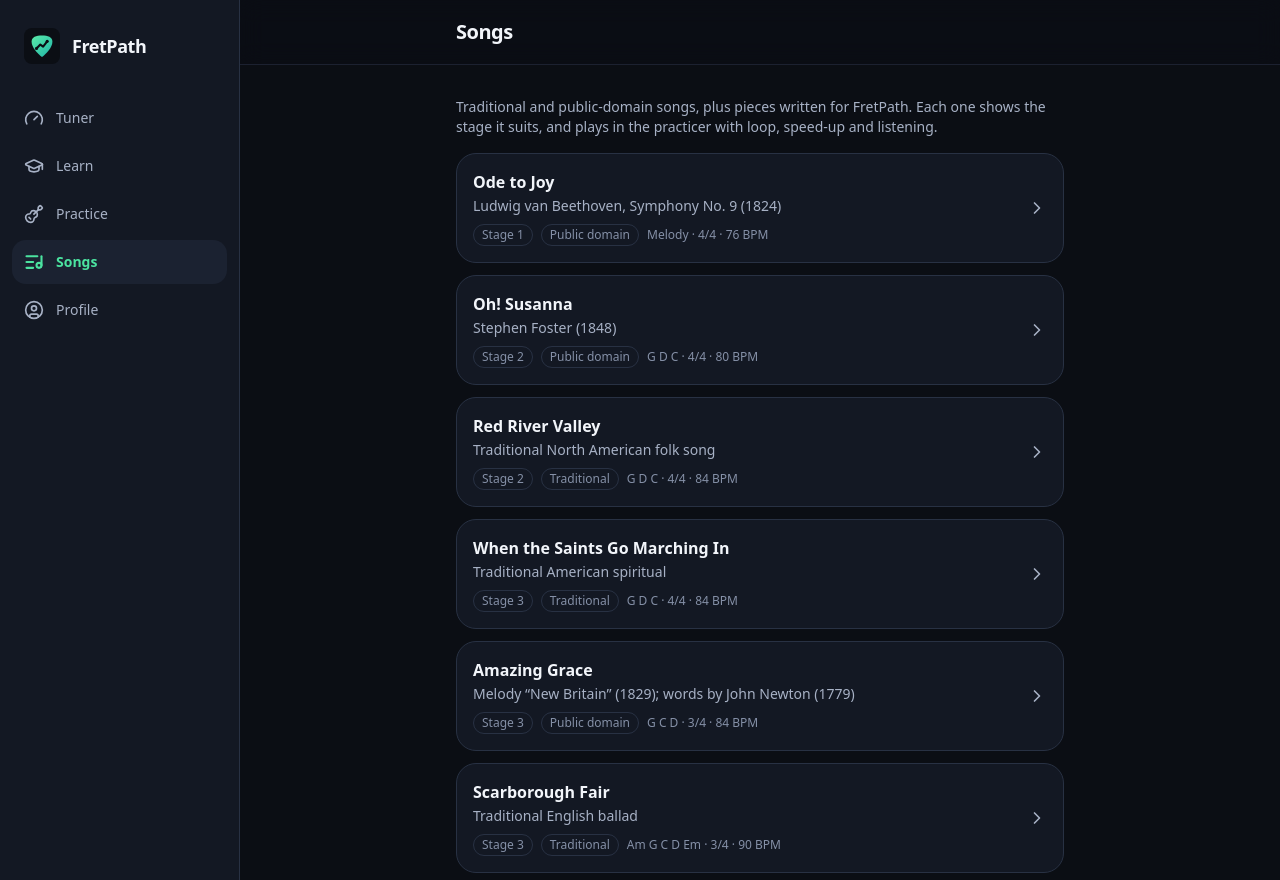
Test: Songs screens › lists the songs with their origin
Click the link "Ode to Joy" at (760, 208), box [456, 153, 1064, 263]
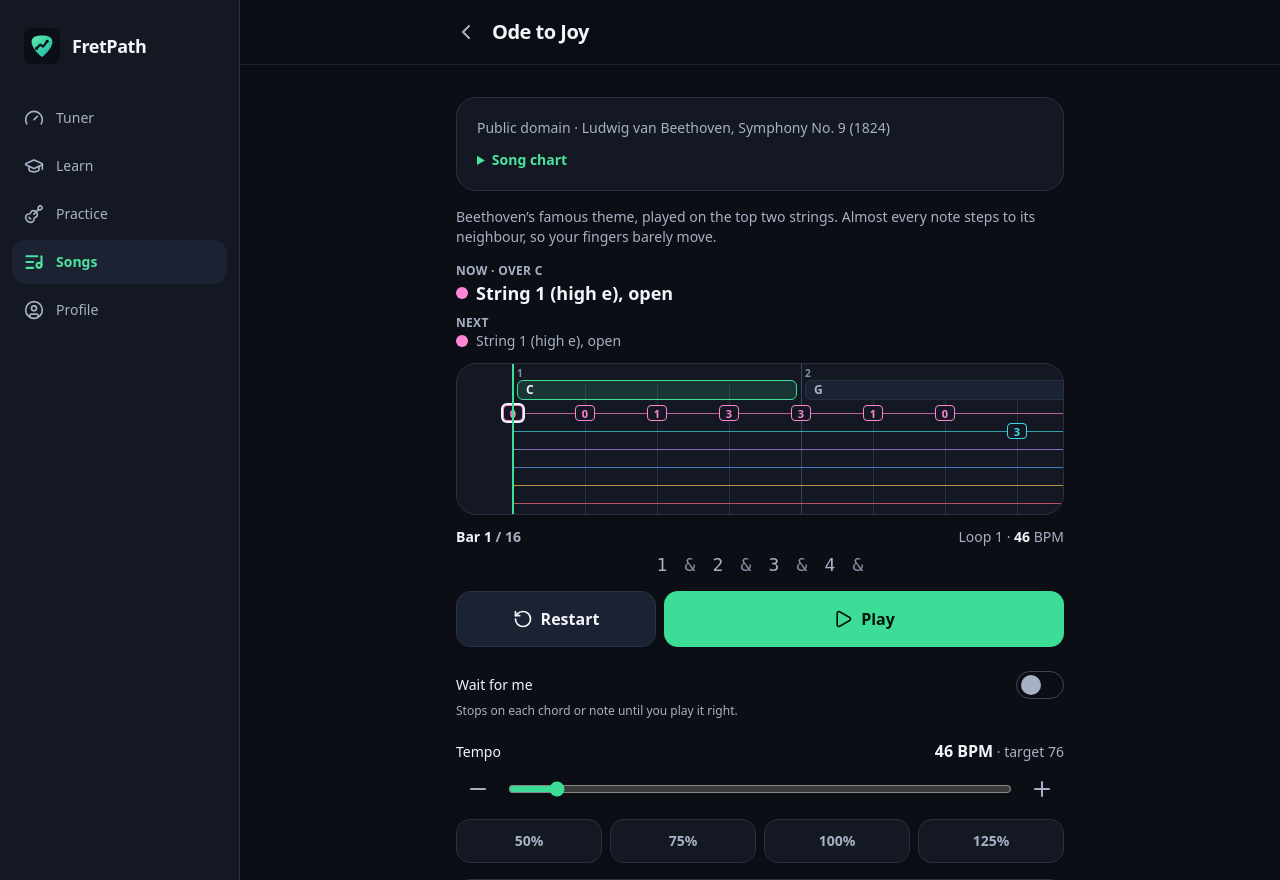
Result: the heading "Ode to Joy" is shown at [492, 18, 589, 45]
Result: the text "Public domain · Ludwig van Beethoven, Symphony No. 9 (1824)" is shown at [477, 118, 890, 137]
Result: the heading "Song chart" is shown at [492, 150, 567, 169]
